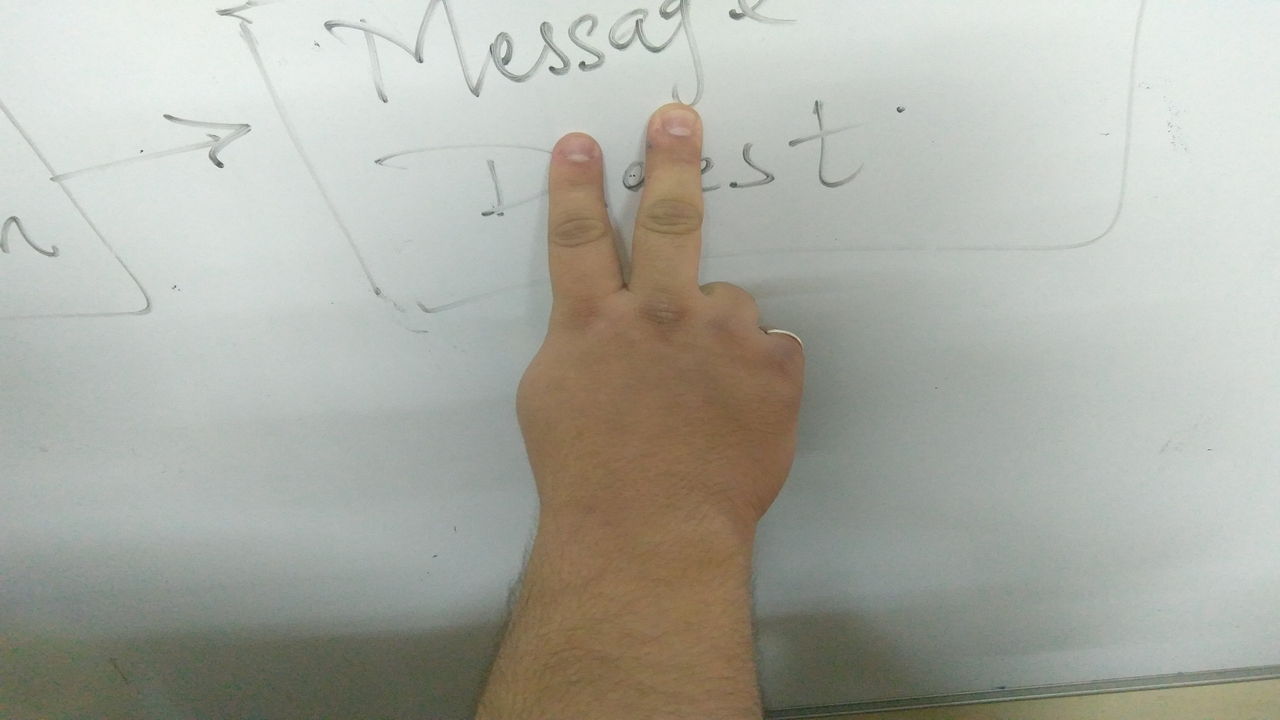fingertip: (638, 98, 702, 152), (542, 130, 604, 180)
